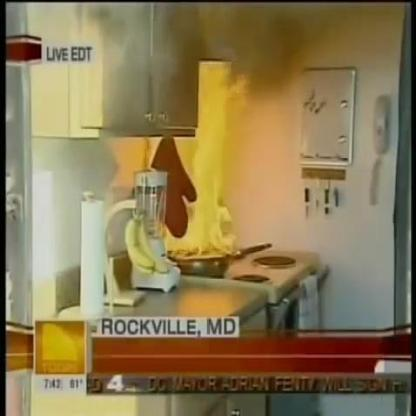fire: (149, 137, 240, 262), (200, 64, 258, 142)
